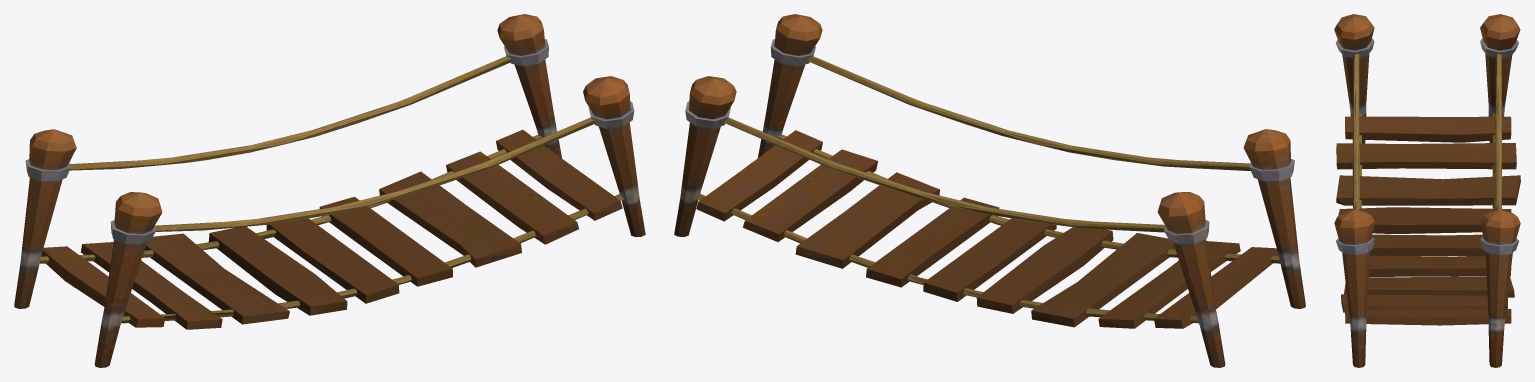
Rendered from rope_bridge_low.glb.
3 renders of one model, left to right at view 1: azimuth 30°, elevation 25°; view 2: azimuth 150°, elevation 25°; view 3: azimuth 270°, elevation 25°, orthographic. The views are drawn at different scales.
Visible parts, largest first — view 1: rope_bridge_low; view 2: rope_bridge_low; view 3: rope_bridge_low.
Part boxes in pixels (left/top/right/bottom): rope_bridge_low: left=14, top=14, right=645, bottom=367; rope_bridge_low: left=674, top=14, right=1305, bottom=367; rope_bridge_low: left=1334, top=14, right=1520, bottom=367.
Bounding box in the file's own units: 6.48 × 1.87 × 2.25.
1 material, 1 textured.
